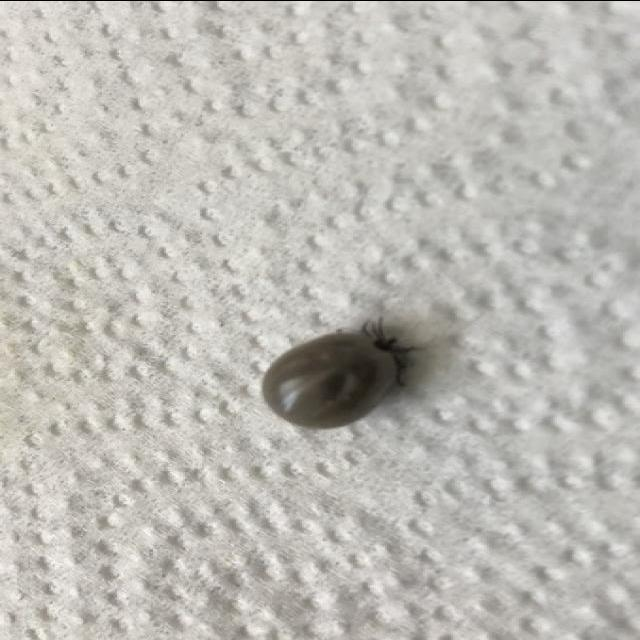Ixodes Ricinus-F-Fed: (262, 321, 425, 429)
